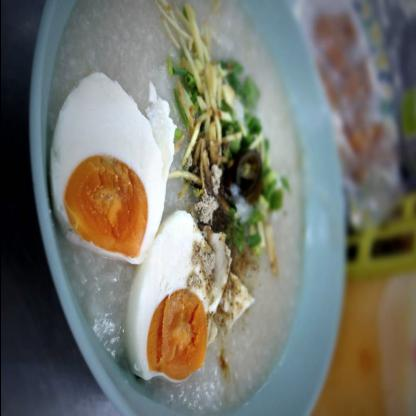Joke: (38, 0, 326, 404)
